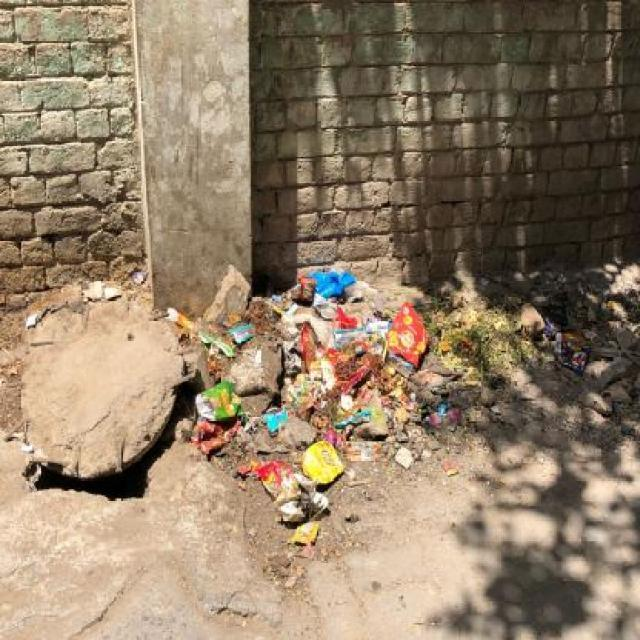garbage: (152, 259, 640, 552), (19, 280, 162, 332)
